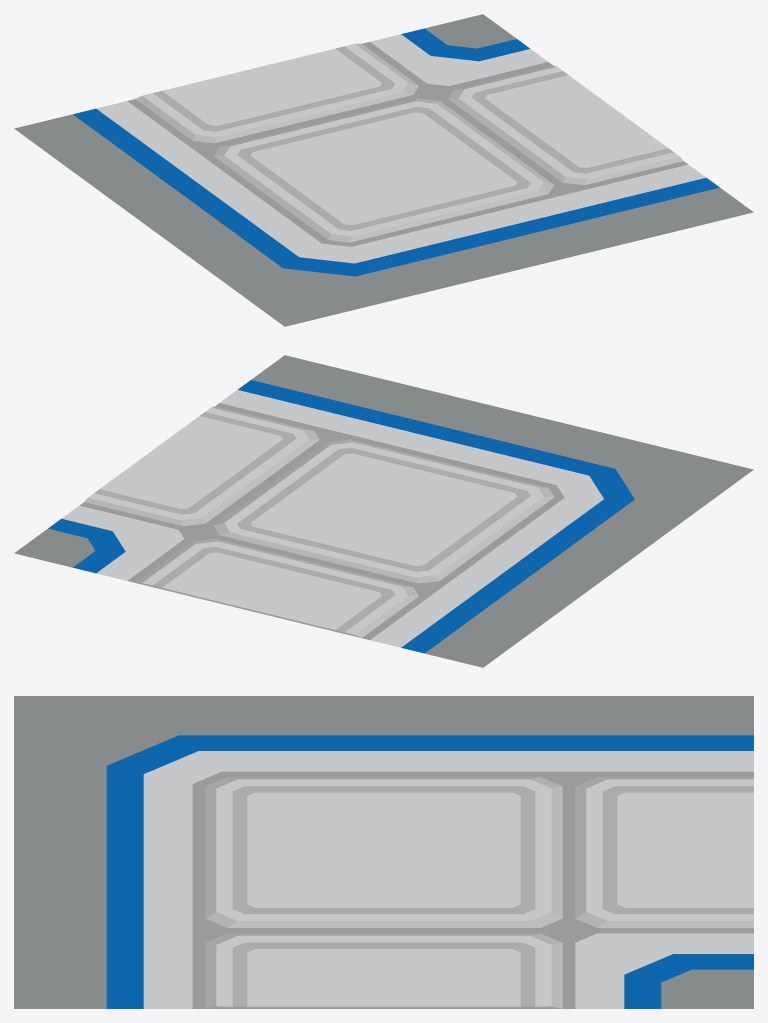
File: Floor_type_A_024.fbx
The picture shows the model from 3 angles, top to bottom: view 1: azimuth 30°, elevation 25°; view 2: azimuth 150°, elevation 25°; view 3: azimuth 270°, elevation 25°; orthographic projection. The views are drawn at different scales.
Visible parts, largest first — view 1: Floor_type_A_024; view 2: Floor_type_A_024; view 3: Floor_type_A_024.
Boxes of the visible parts, <box> form: Floor_type_A_024: <box>14,14,753,326</box>; Floor_type_A_024: <box>14,355,753,667</box>; Floor_type_A_024: <box>14,696,753,1008</box>.
Bounding box in the file's own units: 400 × 400 × 1.34.
